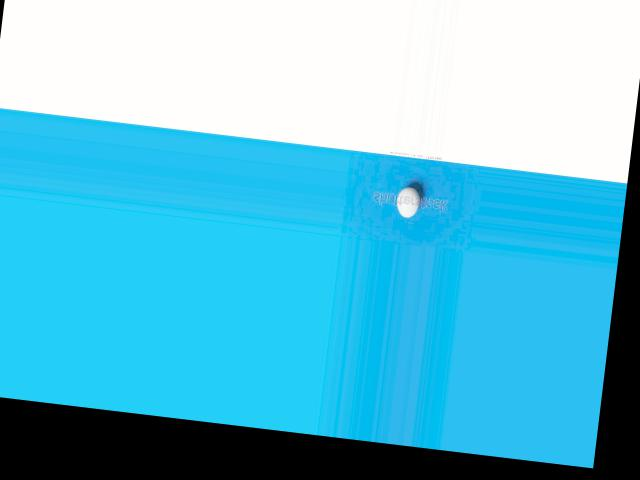egg: (396, 185, 421, 219)
